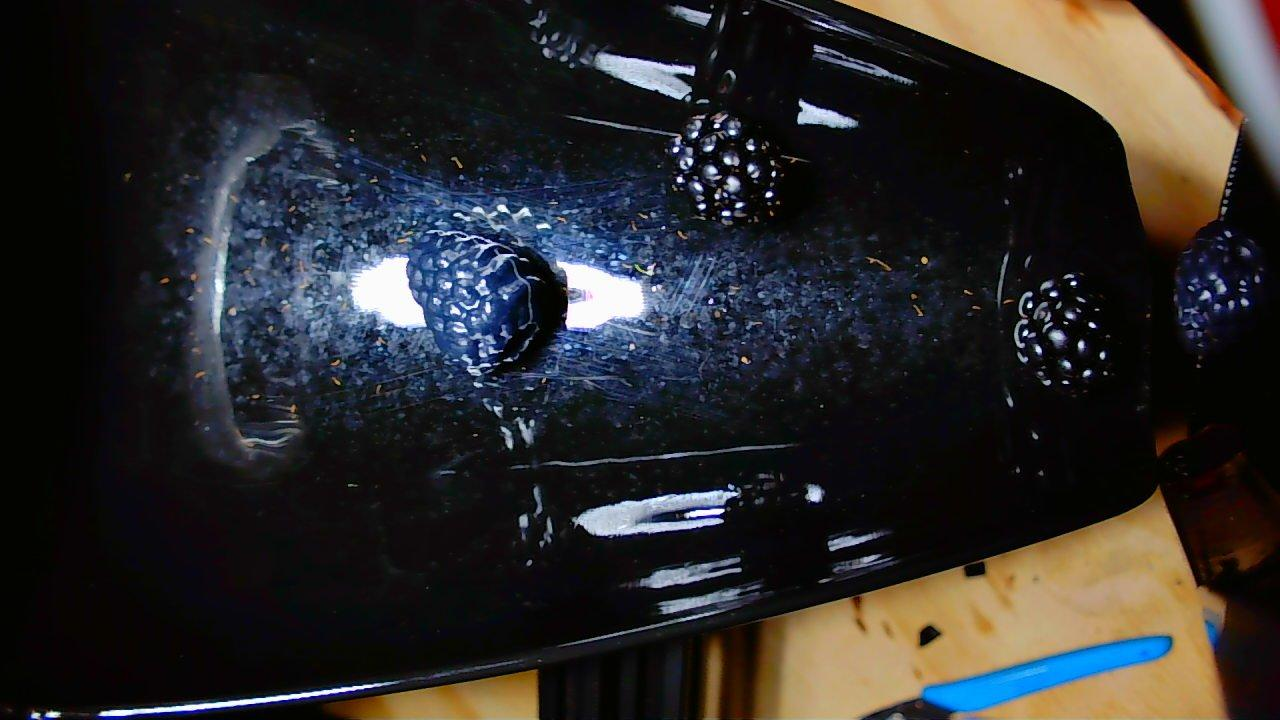berry: (406, 230, 566, 375), (1174, 220, 1274, 359), (668, 110, 784, 225), (1014, 274, 1112, 392)
